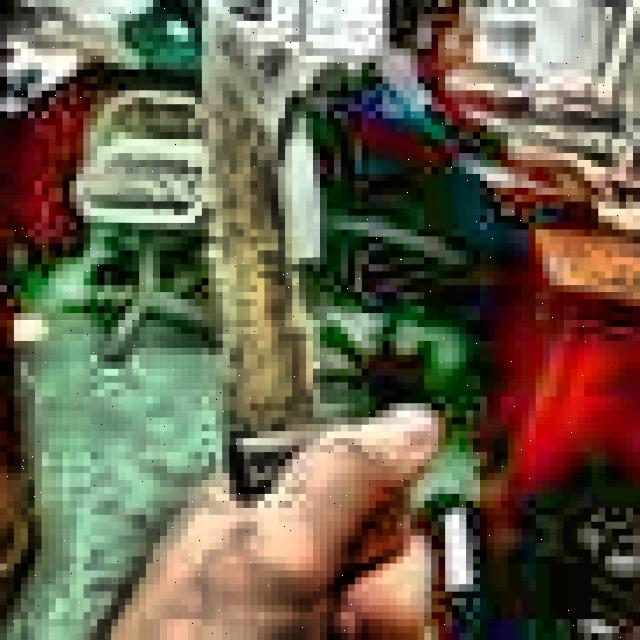knife: (205, 6, 328, 502)
